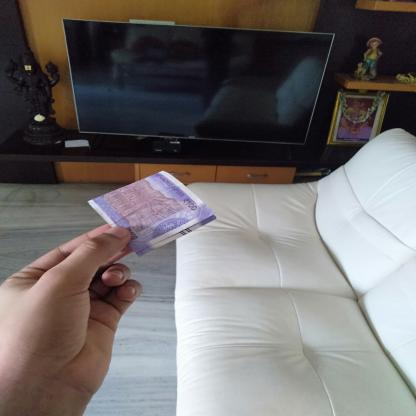New100Back: (90, 172, 200, 242)
